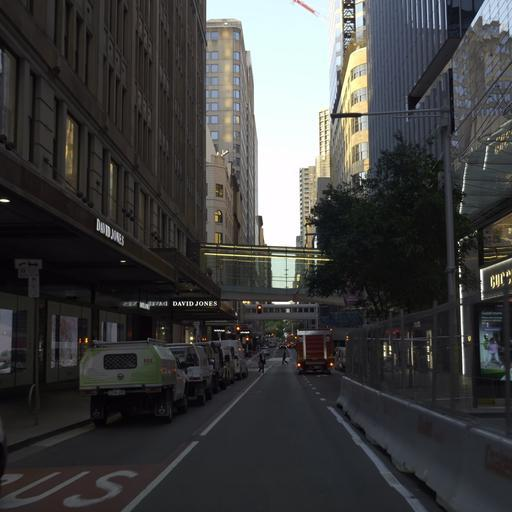Street light: (329, 103, 464, 396)
